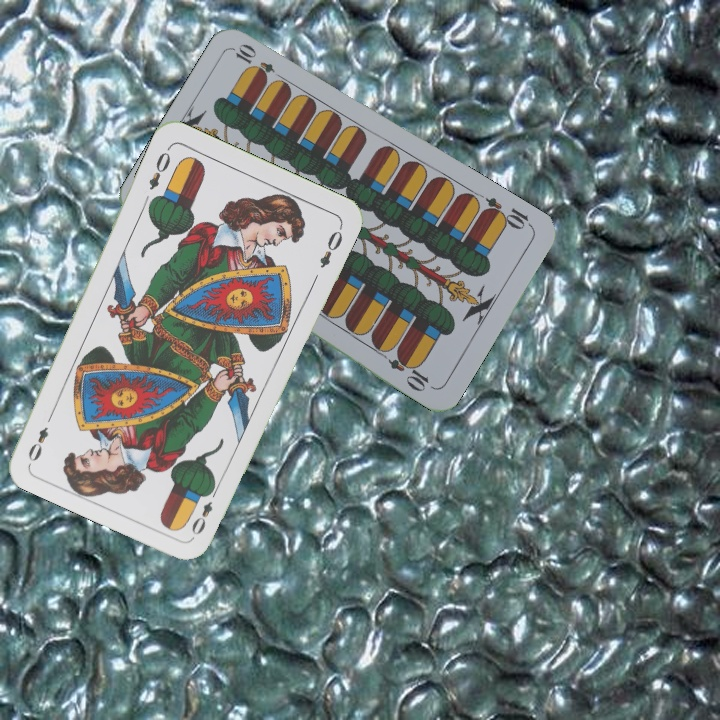E10: (478, 193, 535, 233)
EO: (187, 483, 221, 538), (144, 143, 173, 193)
